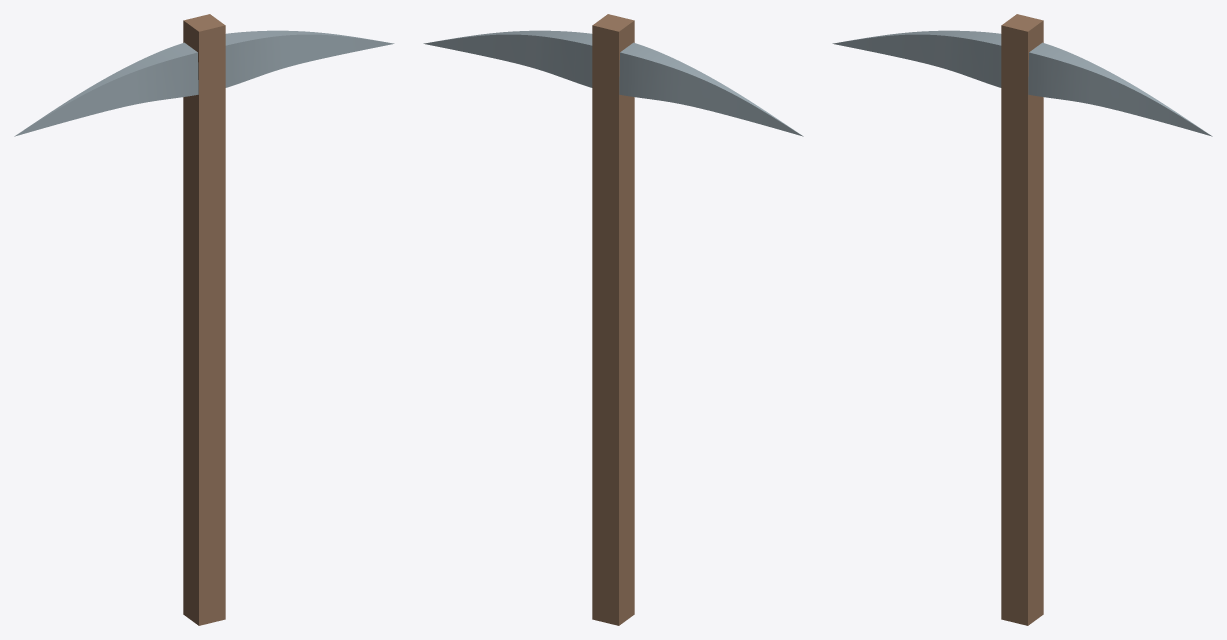
3 views of the same model, side by side, from view 1: azimuth 30°, elevation 25°; view 2: azimuth 150°, elevation 25°; view 3: azimuth 330°, elevation 25° (orthographic).
Parts seen in each view (by area): view 1: shaft, forged_head; view 2: shaft, forged_head; view 3: shaft, forged_head.
Boxes of the visible parts, x1,y1,x2,y2 form: shaft: (183, 14, 225, 625); forged_head: (14, 30, 394, 136); shaft: (592, 14, 634, 625); forged_head: (423, 30, 803, 136); shaft: (1001, 14, 1043, 625); forged_head: (832, 30, 1212, 136).
Bounding box in the file's own units: 0.6035 × 0.9 × 0.0426.
